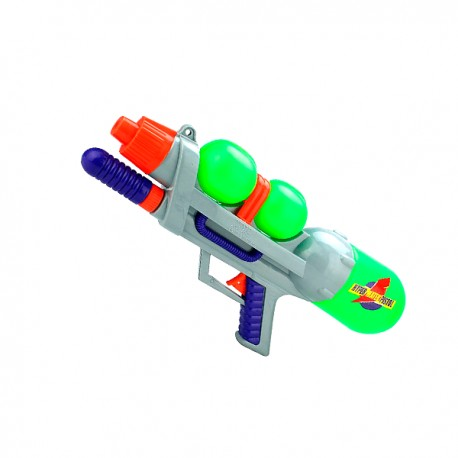Arma Falsa: (78, 113, 415, 357)
